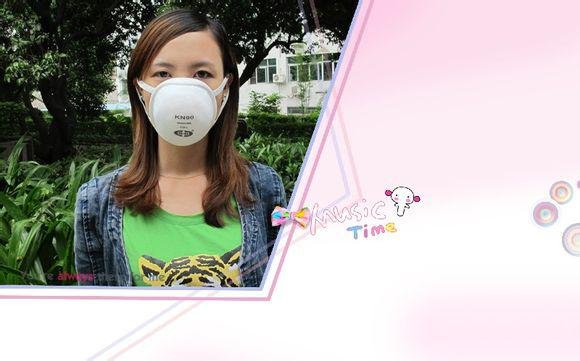OK: (138, 50, 233, 145)
